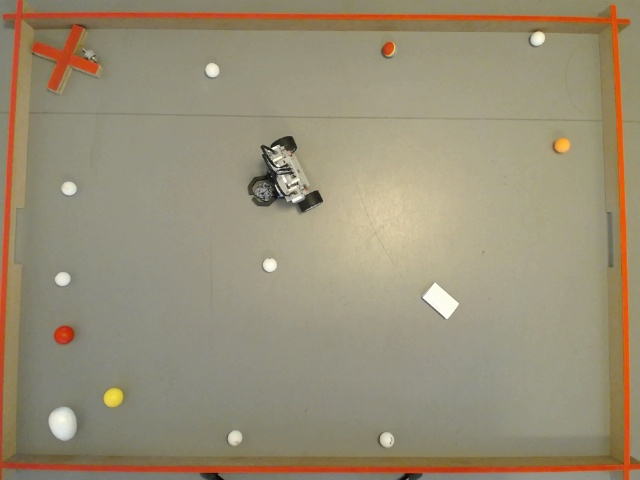big_goal: (14, 207, 22, 263), (606, 212, 612, 267)
cross: (32, 24, 103, 93)
egg: (50, 408, 74, 437)
orange: (556, 138, 570, 152)
robot: (246, 135, 322, 212)
wall: (16, 29, 608, 453)
white: (531, 32, 544, 45), (204, 63, 218, 75), (380, 432, 392, 446), (228, 431, 241, 443), (264, 258, 276, 270), (57, 273, 70, 284), (62, 183, 76, 192)
